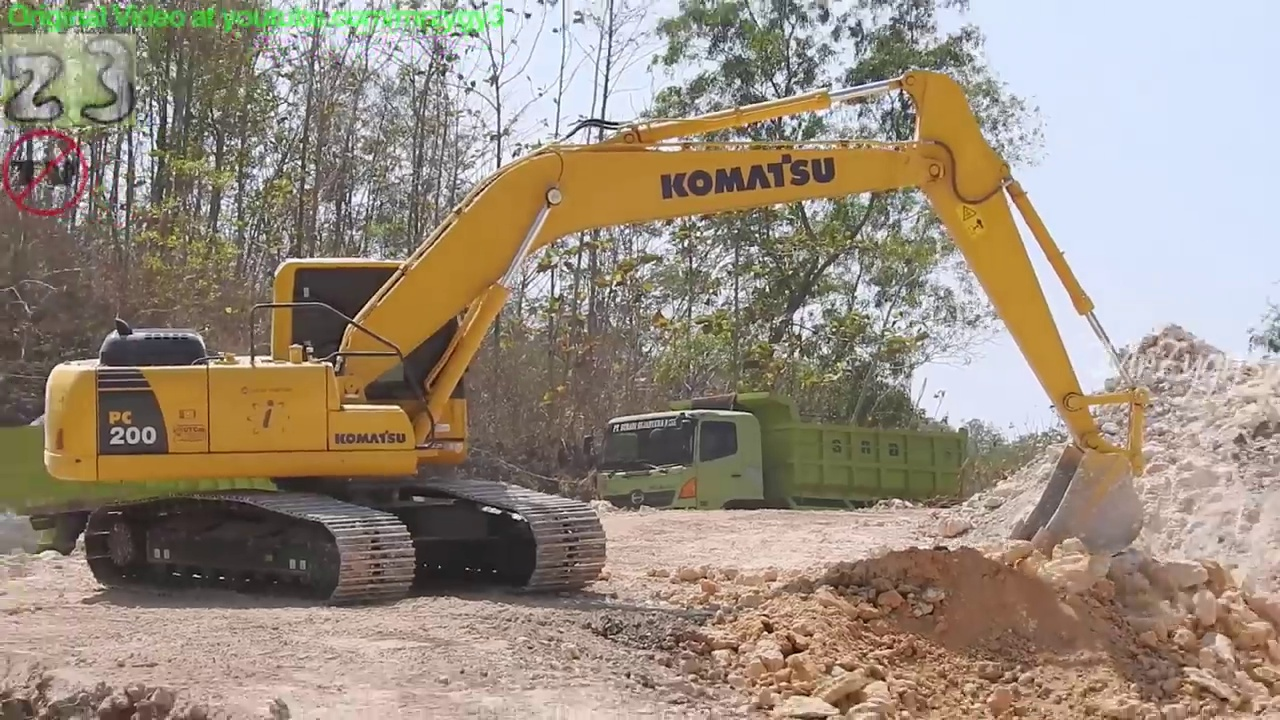excavator: (38, 61, 1155, 614)
truck: (1, 340, 481, 569), (578, 386, 975, 550)
